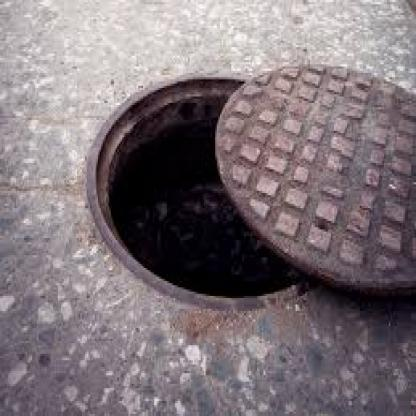open manhole-not overflowing-: (77, 49, 416, 373)
